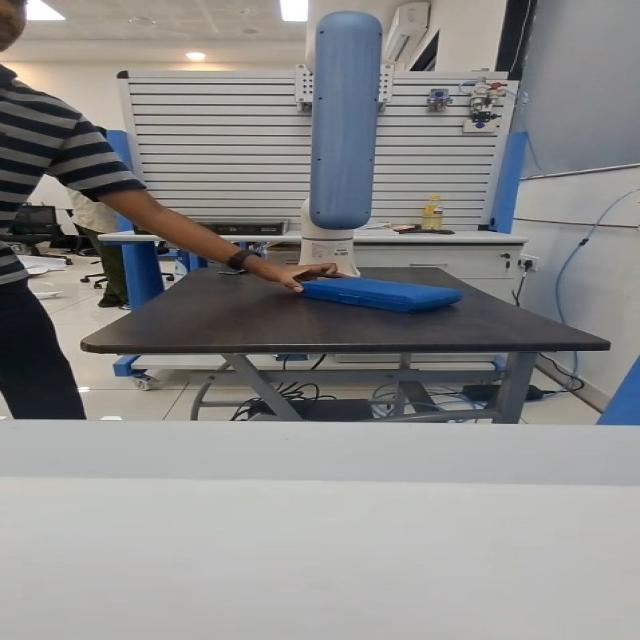top-surface: (323, 279, 430, 292)
